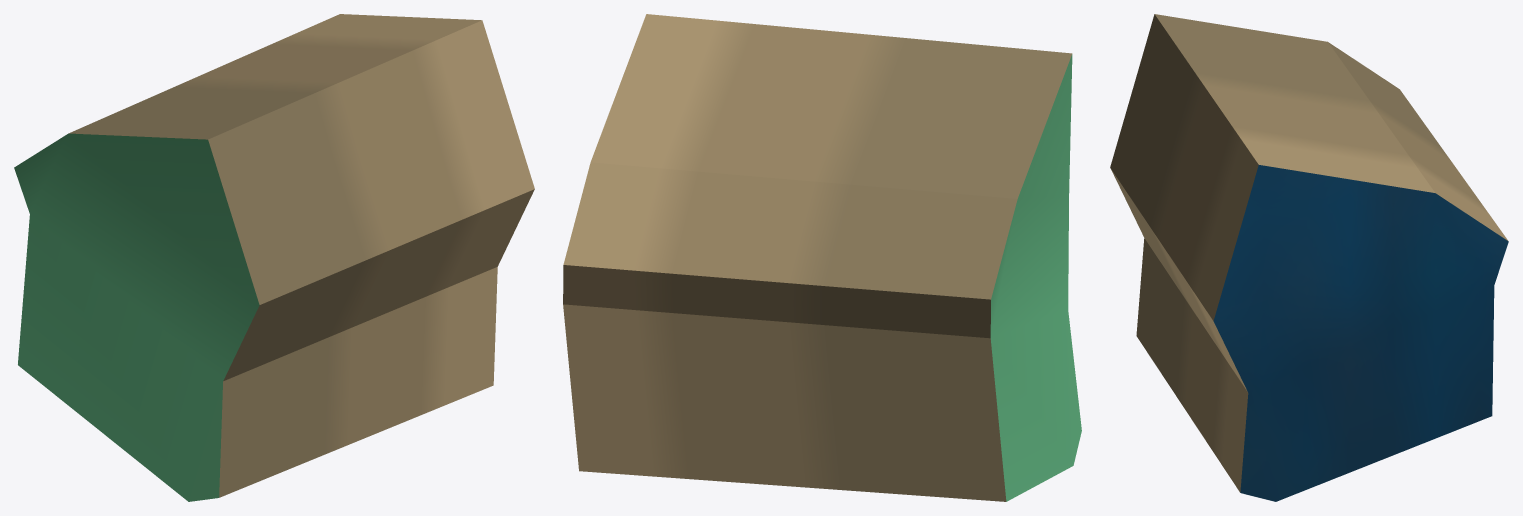
The model's file is 05e1_Guatemala.glb.
The picture shows the model from 3 angles, left to right: view 1: azimuth 30°, elevation 25°; view 2: azimuth 150°, elevation 25°; view 3: azimuth 270°, elevation 25°; orthographic projection. The views are drawn at different scales.
Visible parts, largest first — view 1: part_0; view 2: part_0; view 3: part_0.
Boxes of the visible parts, bbox=[...] form: part_0: bbox=[14, 14, 534, 501]; part_0: bbox=[563, 14, 1081, 501]; part_0: bbox=[1110, 14, 1508, 501].
Bounding box in the file's own units: 0.2453 × 0.2082 × 0.2183.
1 material, 1 textured.
